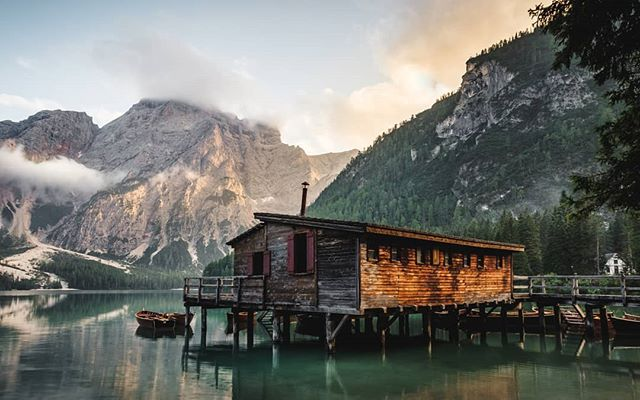building: (223, 210, 524, 334)
mountain: (17, 68, 349, 187), (356, 17, 585, 185)
river: (1, 298, 608, 400)
sky: (1, 1, 453, 110)
vegetation: (447, 202, 640, 292)
